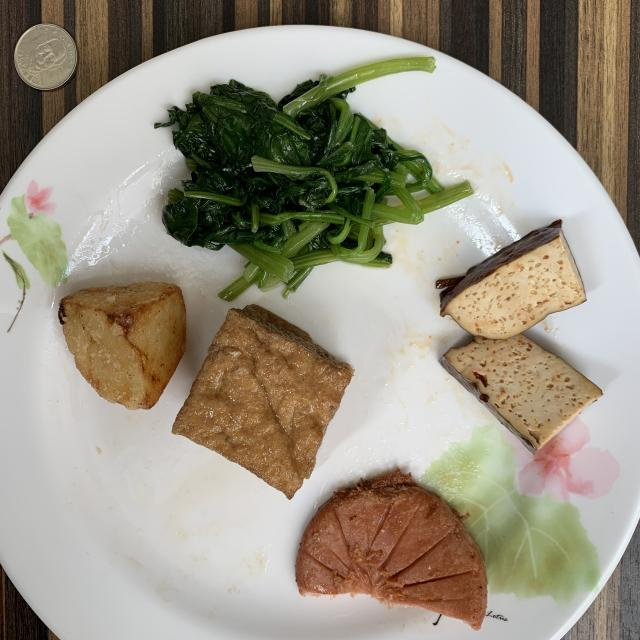Spam: (296, 470, 488, 630)
coin: (14, 24, 78, 90)
egg tofu: (172, 305, 352, 499)
firm tofu: (436, 220, 601, 450)
fried potato: (59, 281, 186, 410)
mustard greens: (155, 56, 470, 300)
